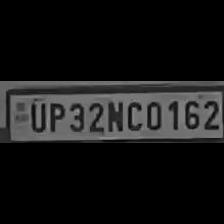0: (143, 99, 163, 131)
1: (164, 97, 180, 130)
2: (201, 96, 221, 130), (86, 98, 104, 132)
3: (65, 98, 84, 132)
6: (180, 98, 200, 130)
C: (124, 98, 142, 132)
N: (104, 98, 124, 132)
P: (46, 100, 66, 132)
U: (26, 100, 44, 132)
